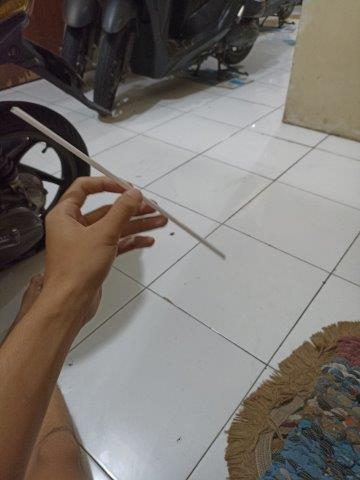sedotan: (11, 106, 225, 258)
